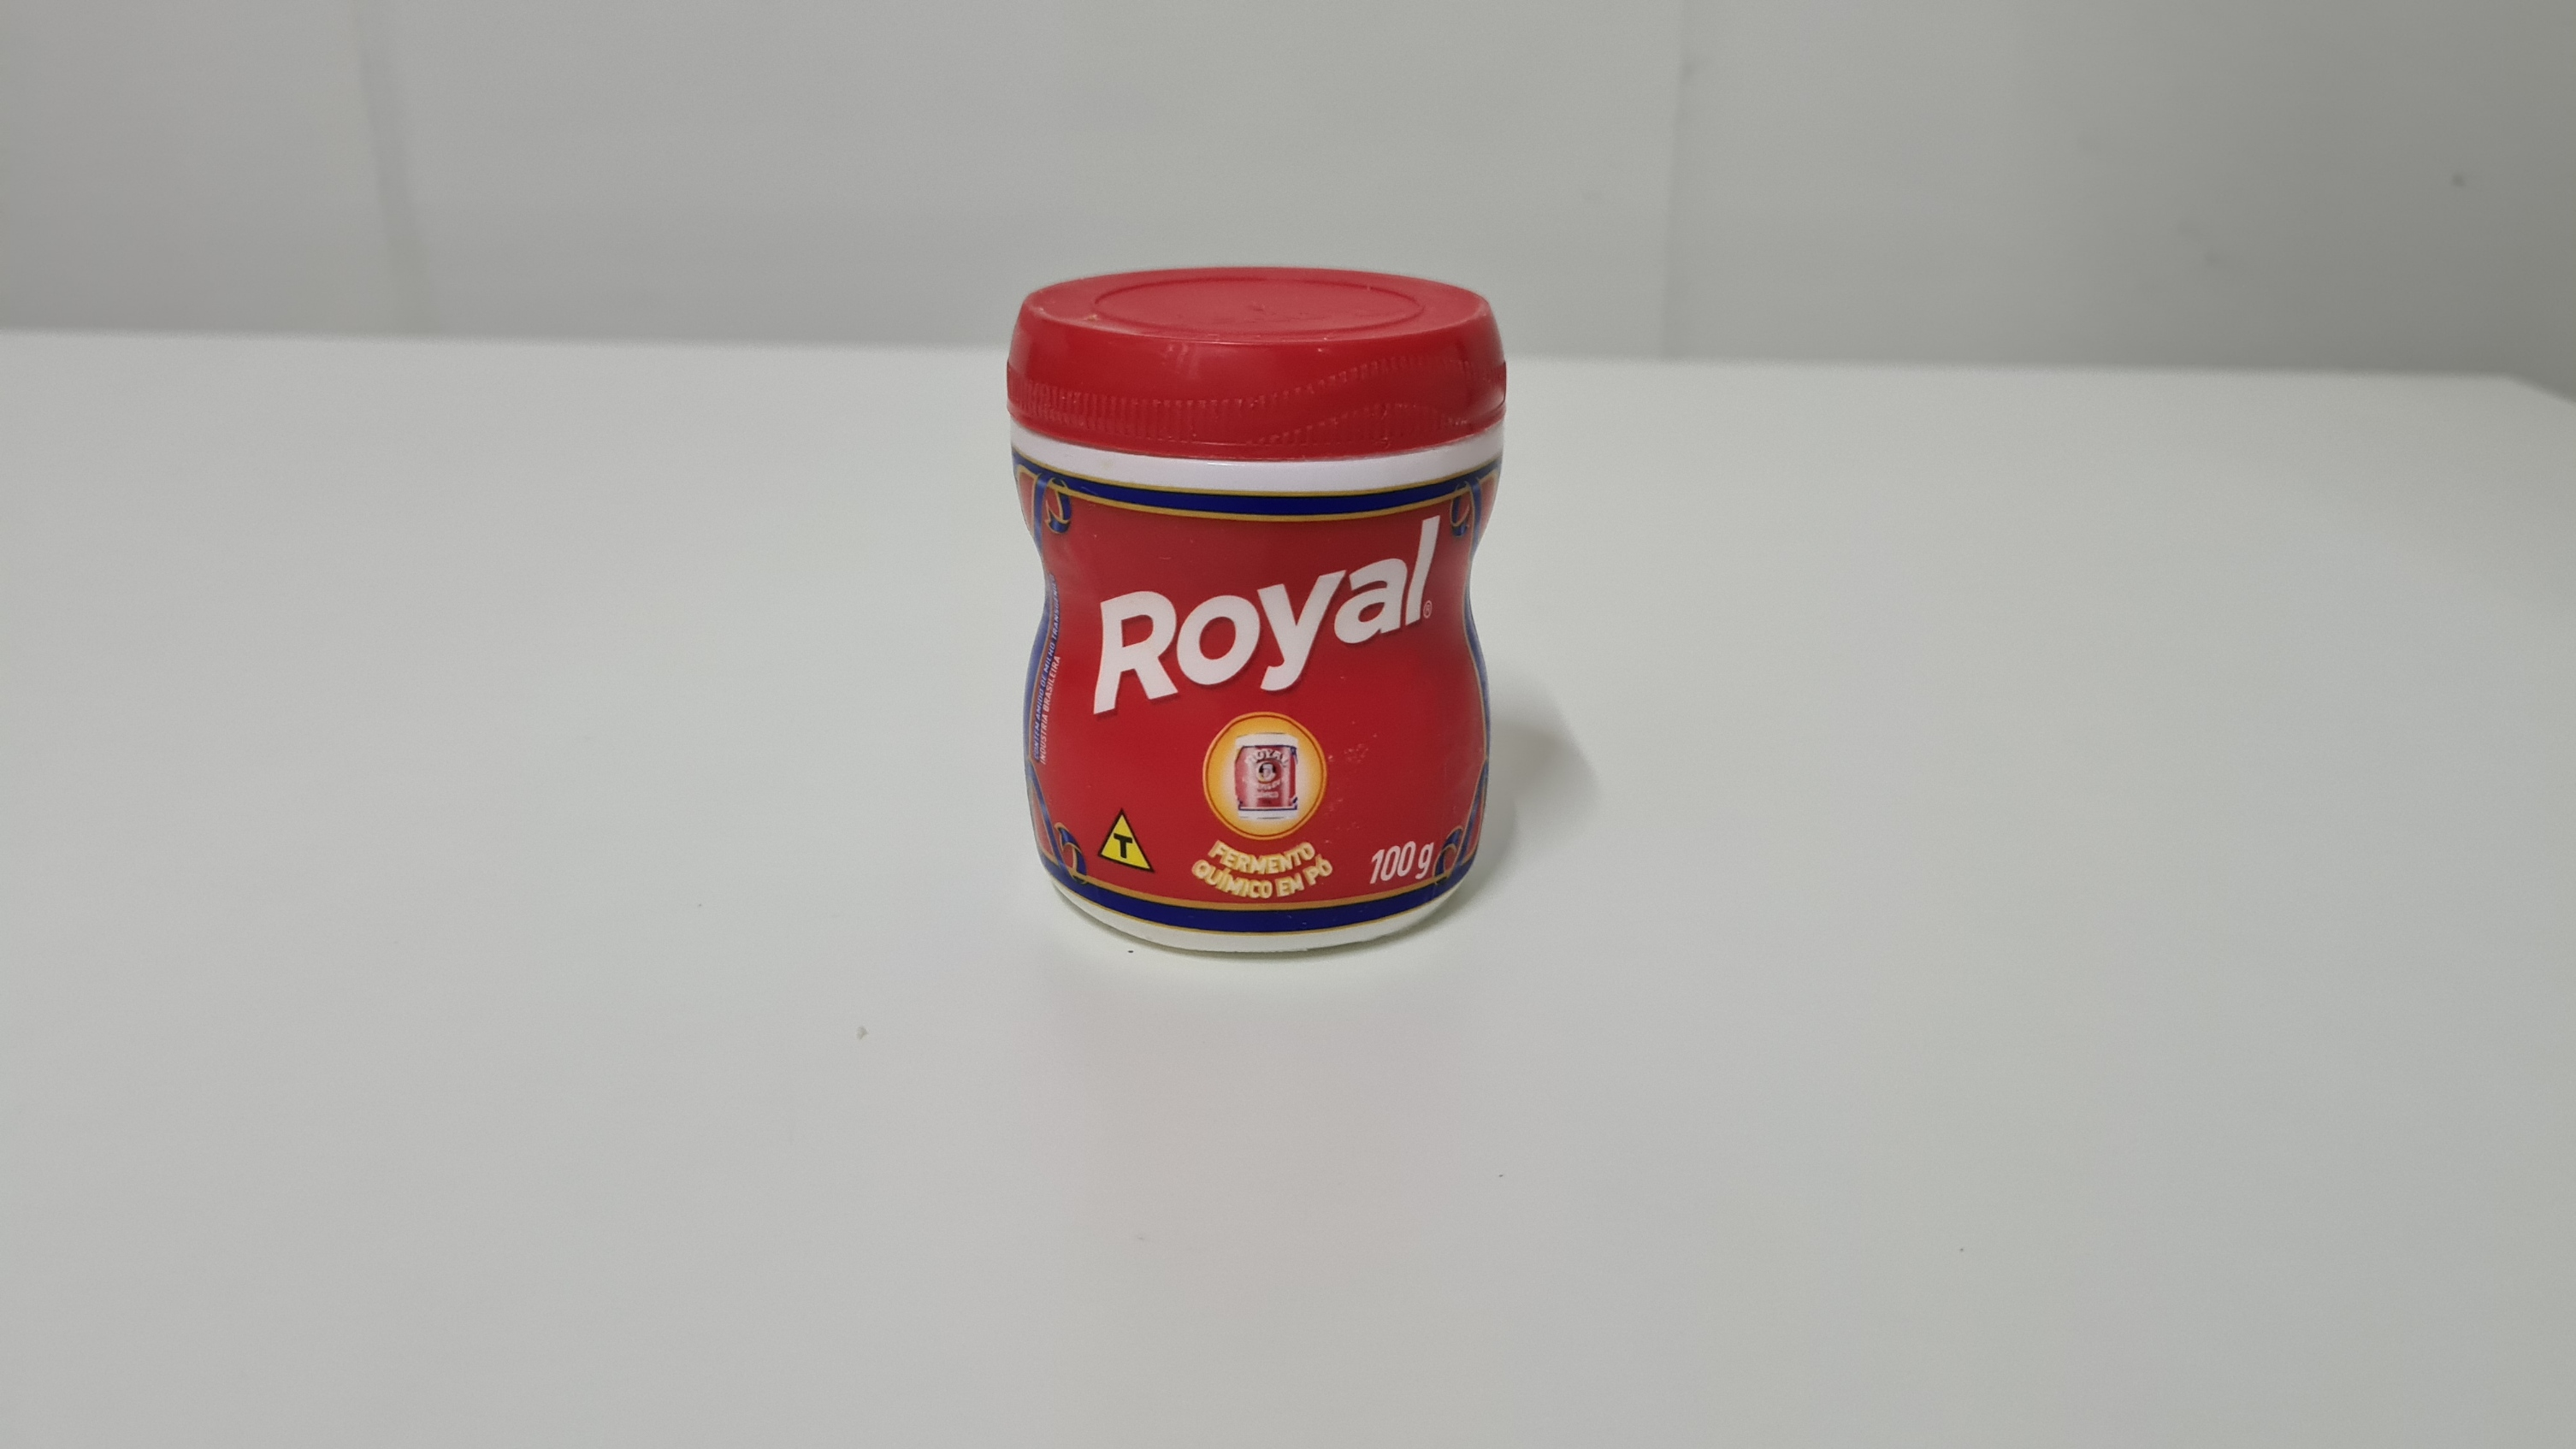Yeast: (996, 249, 1526, 972)
